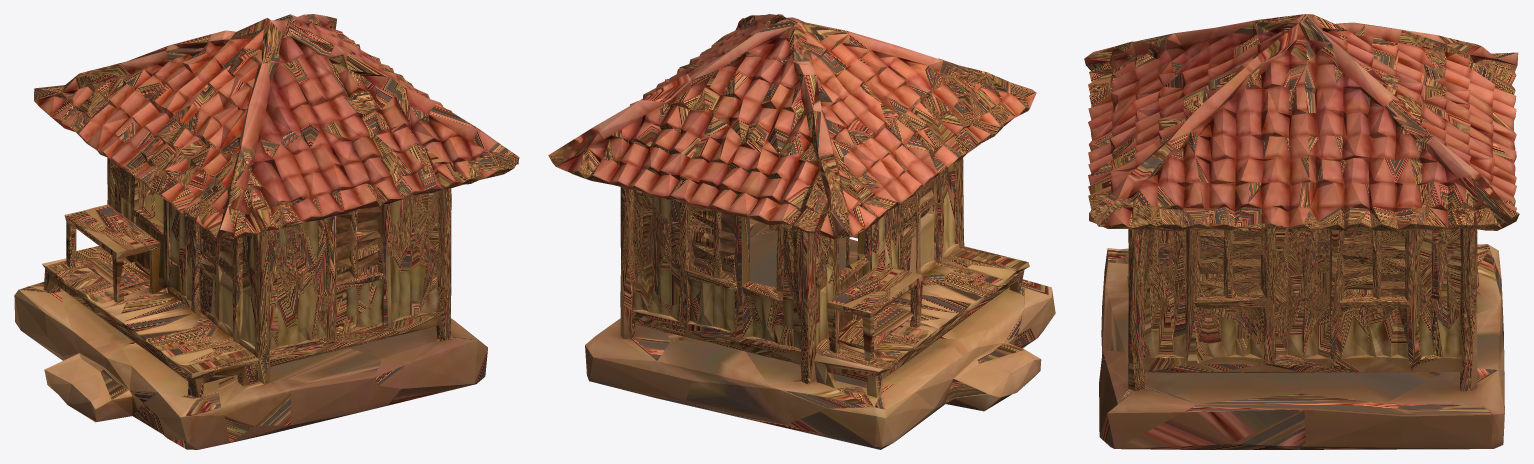
The model's file is nha-mai-ngoi-xa.c2a81b24.glb.
3 views of the same model, side by side, from view 1: azimuth 30°, elevation 25°; view 2: azimuth 150°, elevation 25°; view 3: azimuth 270°, elevation 25° (orthographic). The views are drawn at different scales.
Parts seen in each view (by area): view 1: tripo_node_f14fa982-ebdf-46bf-9648-429ff875a777; view 2: tripo_node_f14fa982-ebdf-46bf-9648-429ff875a777; view 3: tripo_node_f14fa982-ebdf-46bf-9648-429ff875a777.
Part boxes in pixels (x1,y1,x2,y2): tripo_node_f14fa982-ebdf-46bf-9648-429ff875a777: (14,14,519,449); tripo_node_f14fa982-ebdf-46bf-9648-429ff875a777: (548,14,1055,449); tripo_node_f14fa982-ebdf-46bf-9648-429ff875a777: (1084,14,1519,449).
Size of the model in its own units: 0.9761 by 0.8306 by 0.8867.
Materials: 1 (1 with a texture image).
